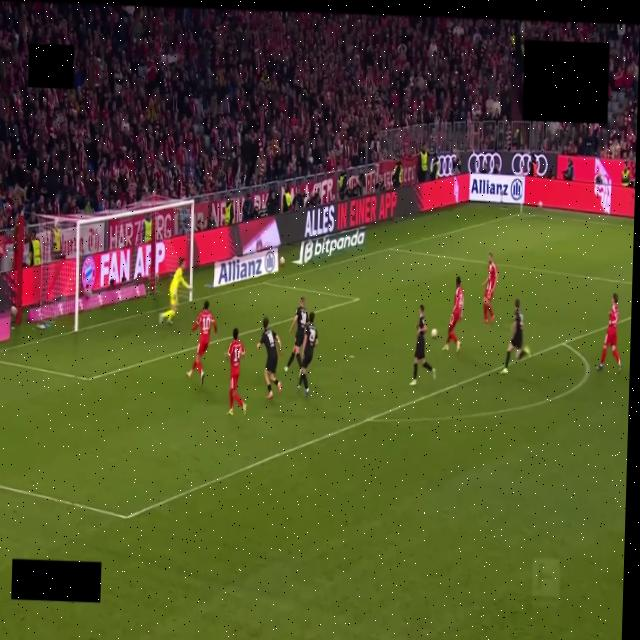ball: (432, 328, 437, 337)
player: (187, 301, 217, 384), (501, 299, 529, 374), (257, 317, 282, 398), (410, 305, 435, 385), (160, 258, 190, 324), (597, 294, 621, 372), (284, 298, 307, 371), (227, 329, 246, 415), (298, 312, 317, 397), (443, 276, 464, 351), (483, 252, 497, 322)
